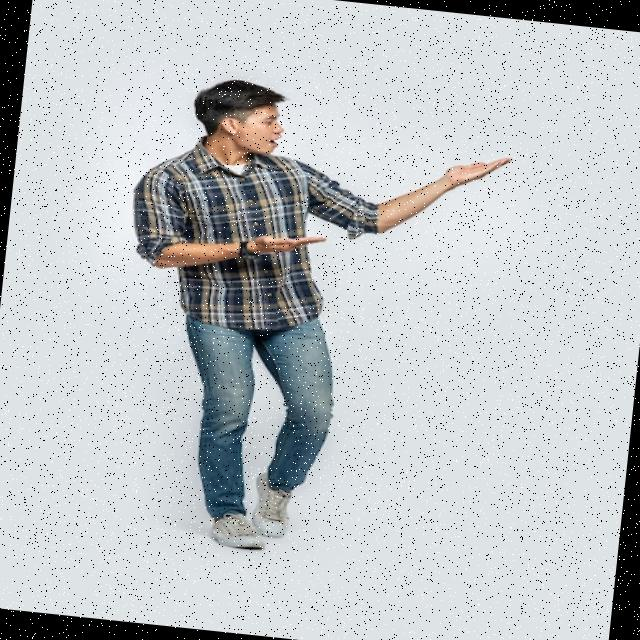Person: (99, 70, 519, 572)
